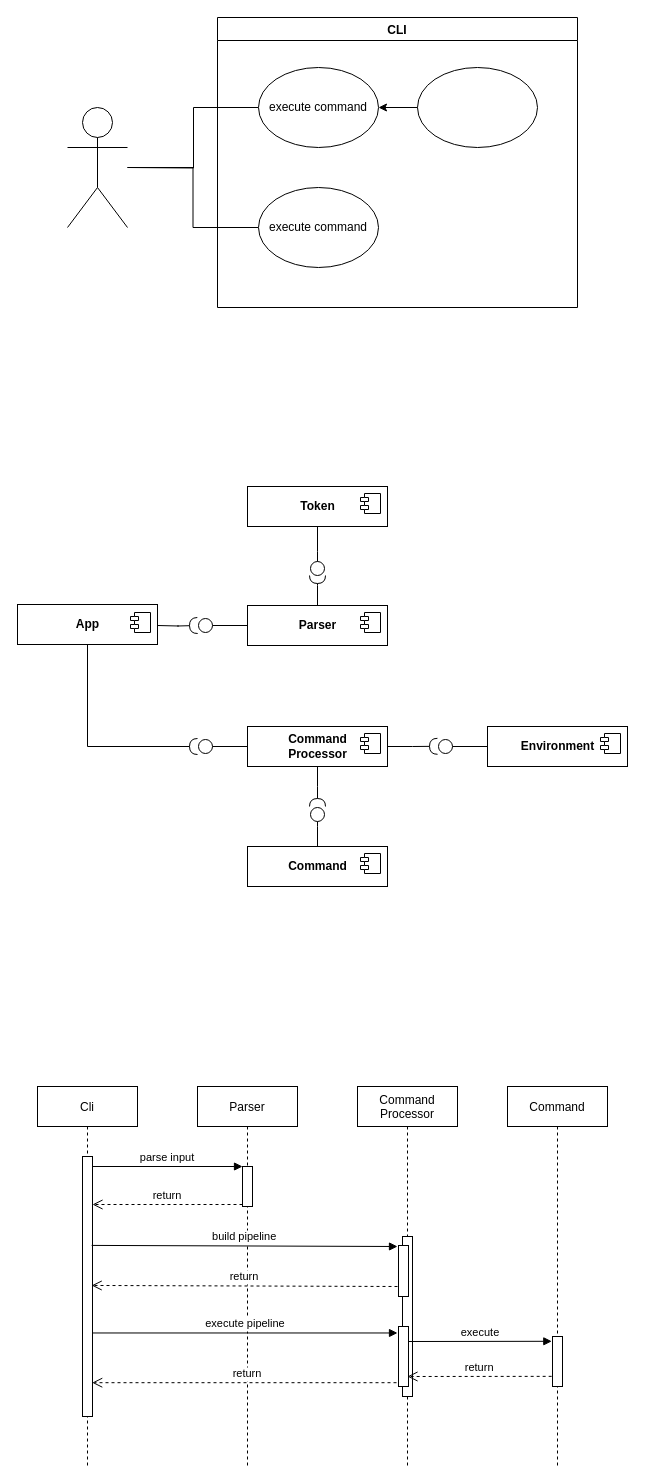
Some shapes in this 645 by 1484 pixel diagram are drawn without their labels. Here are the shapes that lost their labels. From the top down, the box of each, then its label:
(416, 66, 538, 148): execute command in pipeline
(66, 106, 128, 228): Actor
